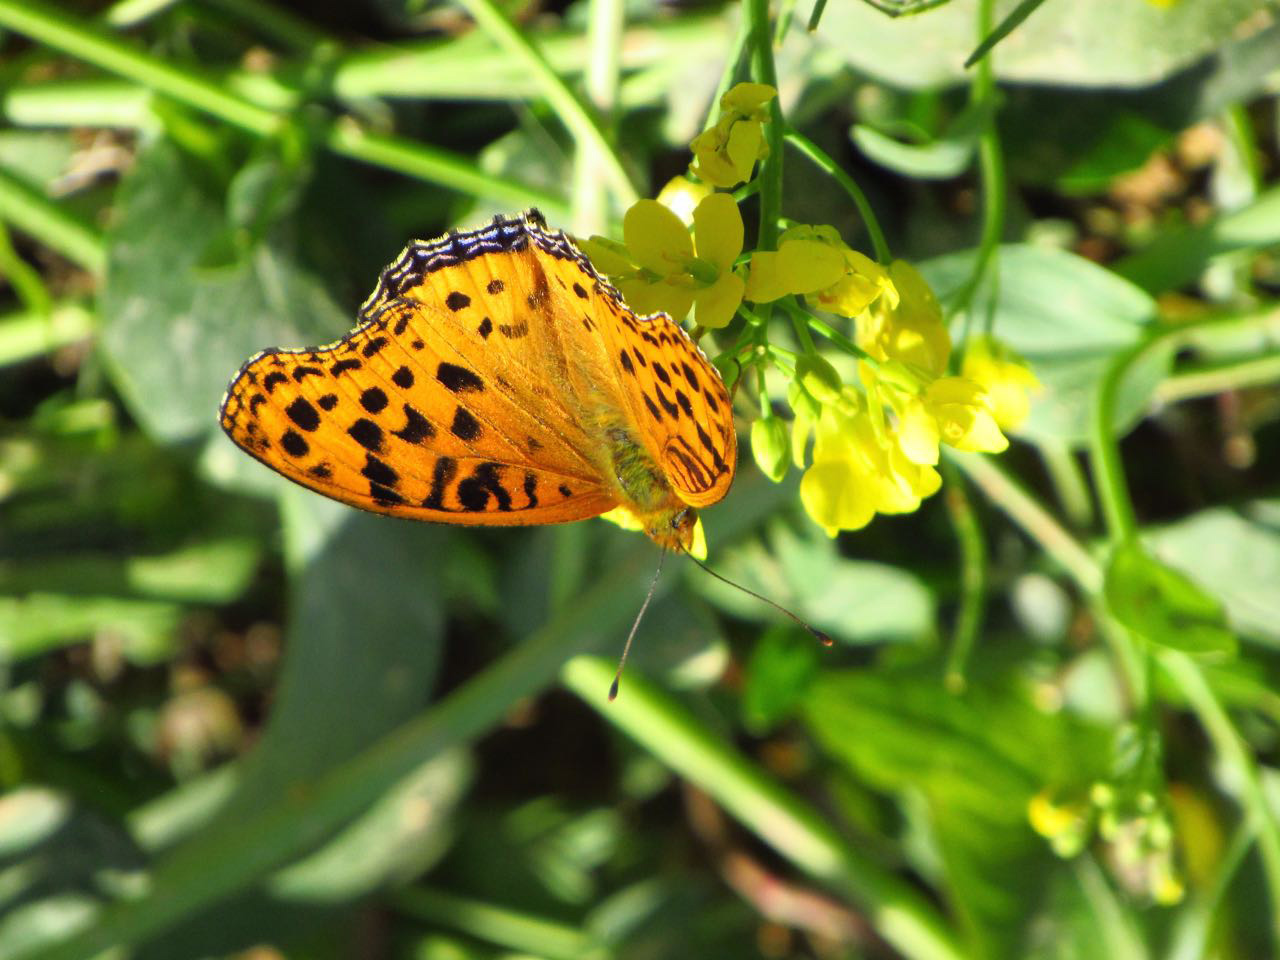Argyreus hyperbius: (220, 196, 848, 706)
butterfly: (218, 194, 846, 704)
